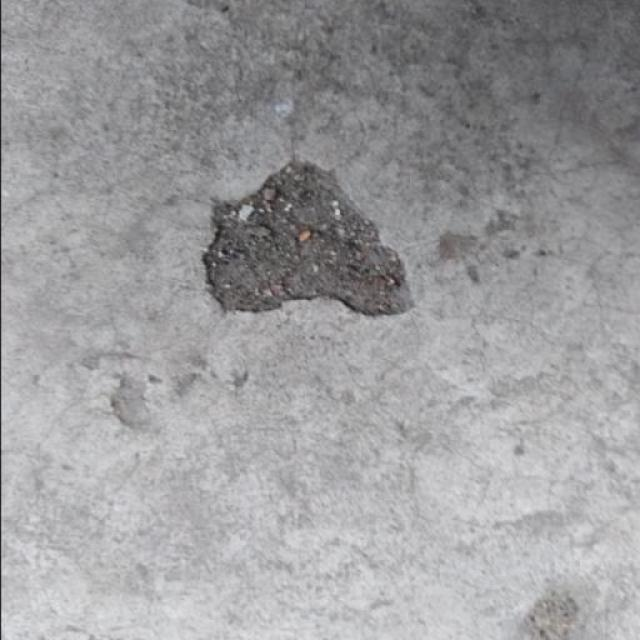D10: (201, 160, 412, 318)
